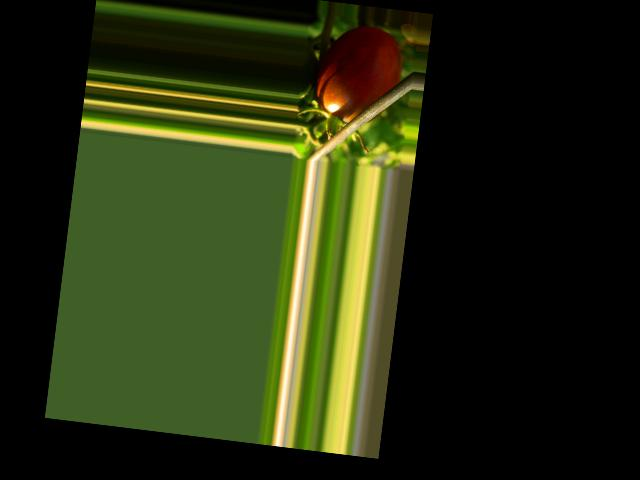tomato: (313, 21, 405, 128)
